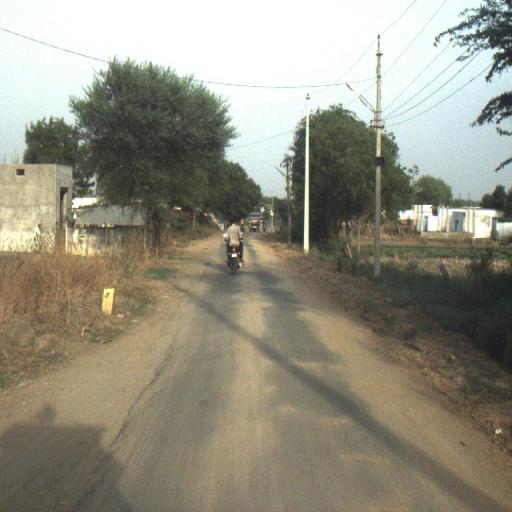street_light_0: (346, 81, 383, 128), (274, 164, 290, 184)
